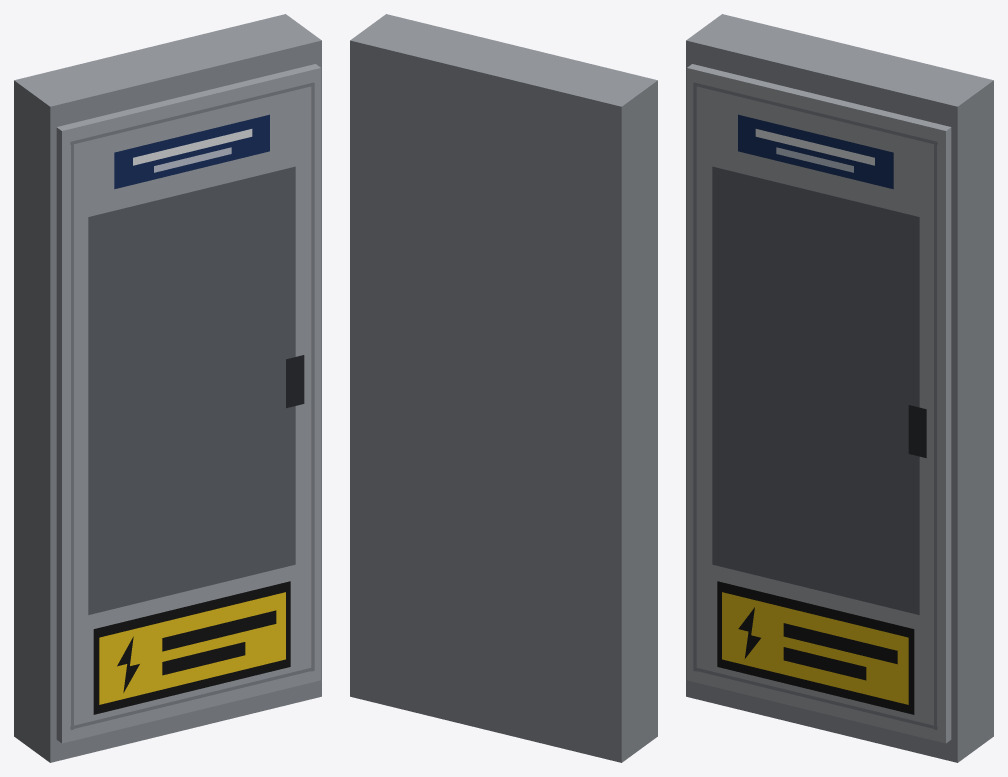
Rendered from breaker_panel_closed.glb.
3 views of the same model, side by side, from view 1: azimuth 30°, elevation 25°; view 2: azimuth 150°, elevation 25°; view 3: azimuth 330°, elevation 25° (orthographic).
Visible parts, largest first — view 1: door, body; view 2: body; view 3: door, body.
Boxes of the visible parts, x1=… form: door: x1=56, y1=64, x2=320, y2=743; body: x1=14, y1=14, x2=321, y2=762; body: x1=350, y1=14, x2=657, y2=762; door: x1=687, y1=64, x2=951, y2=743; body: x1=686, y1=14, x2=993, y2=762.
Bounding box in the file's own units: 0.52 × 1.2 × 0.144.
